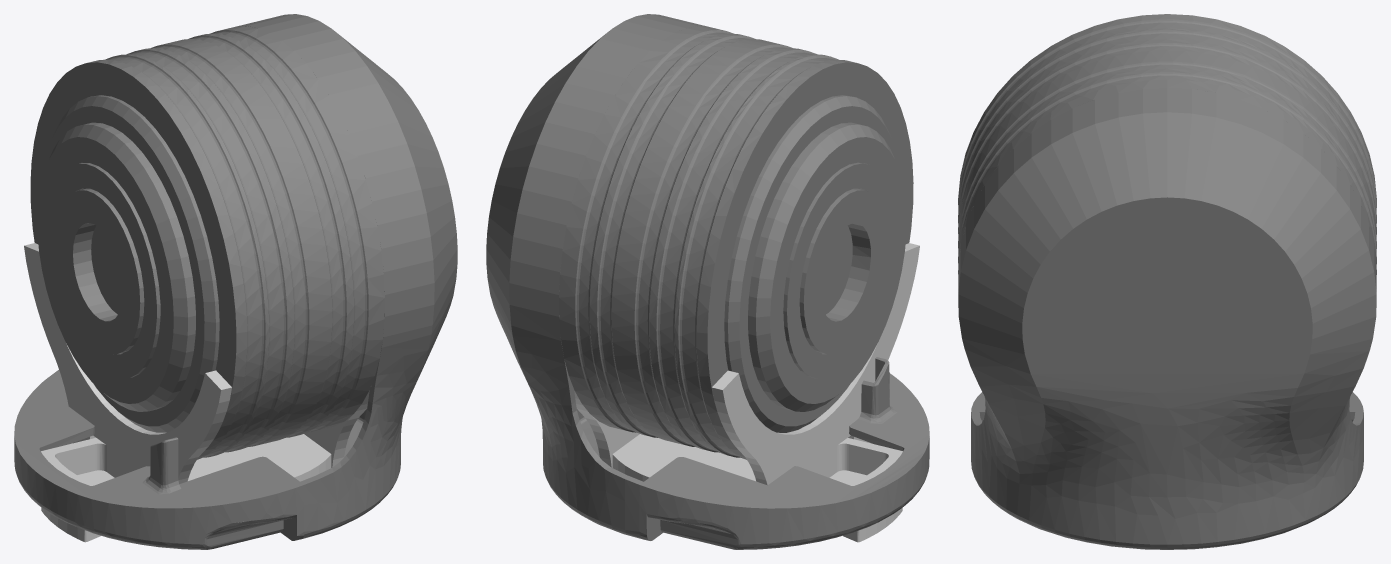
3 views of the same model, side by side, from view 1: azimuth 30°, elevation 25°; view 2: azimuth 150°, elevation 25°; view 3: azimuth 270°, elevation 25° (orthographic).
Bounding box in the file's own units: 0.095 × 0.1134 × 0.098.
Materials: 1 (1 with a texture image).
